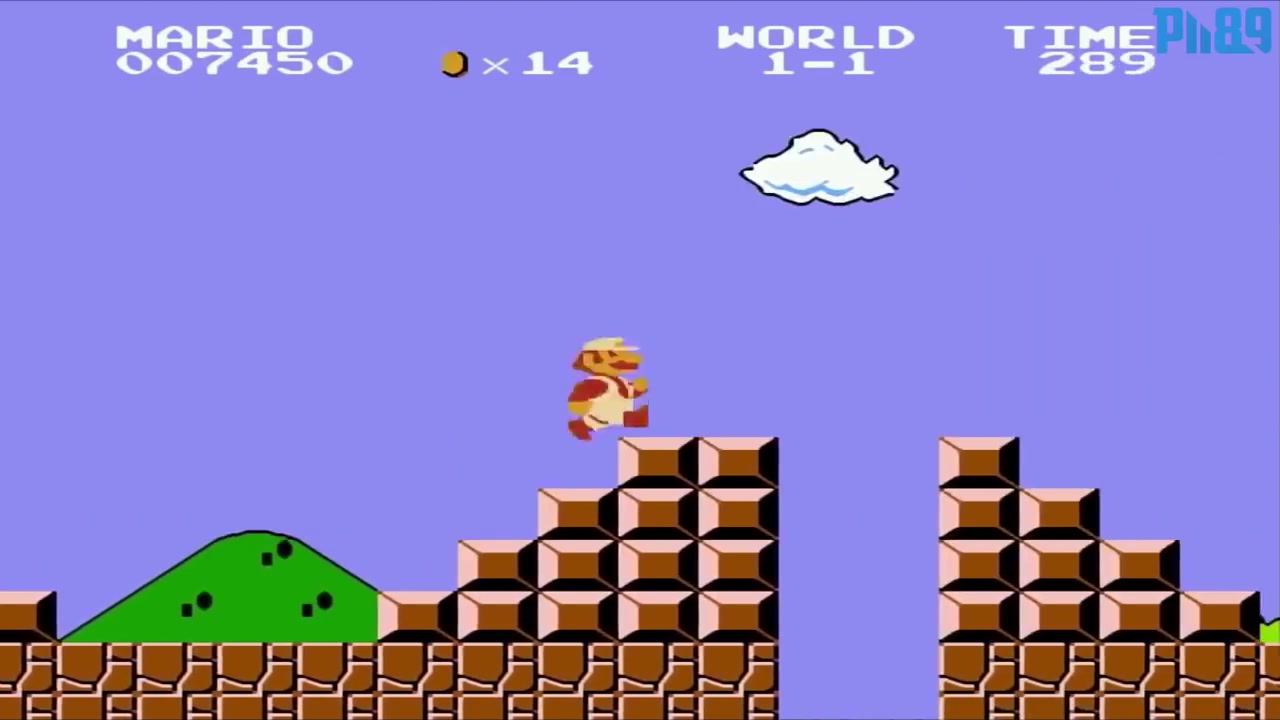mario: (558, 322, 656, 447)
